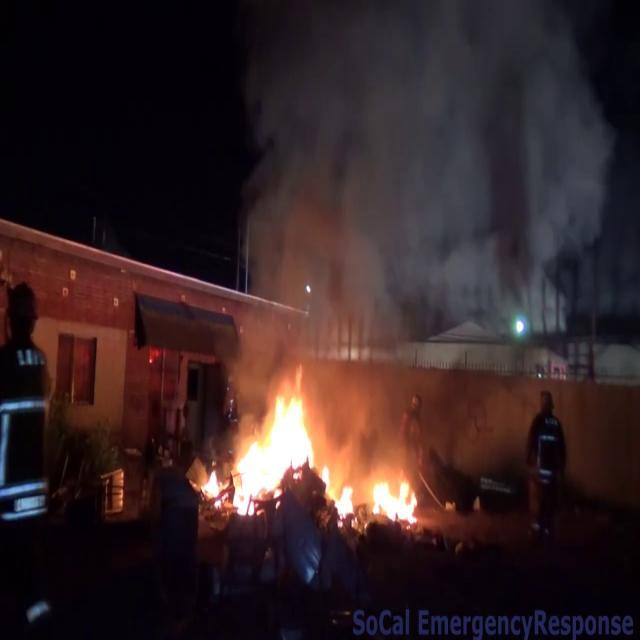Fire: (203, 371, 423, 527), (368, 464, 424, 532)
Smoke: (230, 0, 620, 348)
